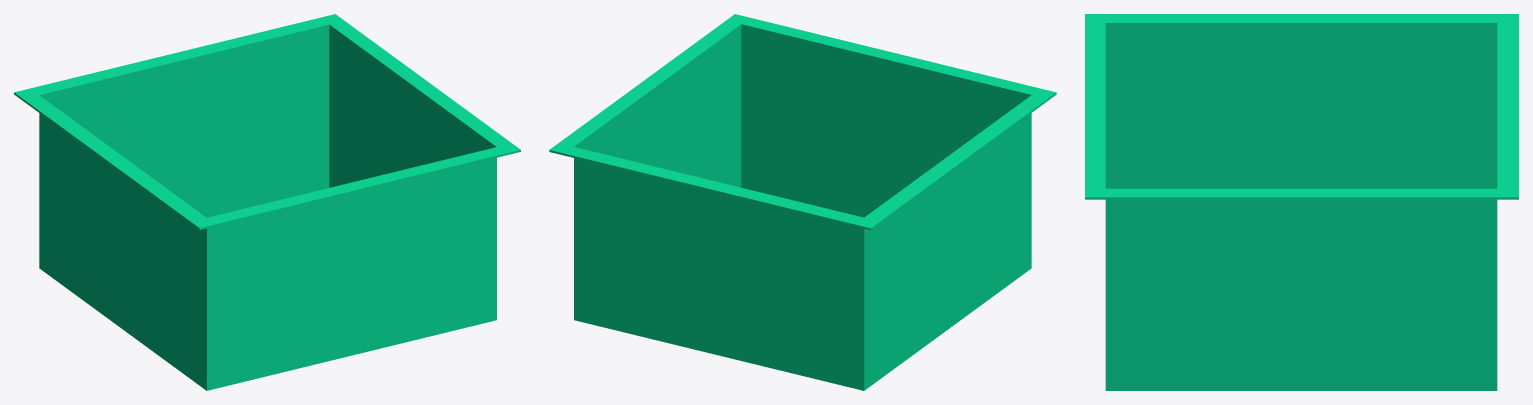
File: phone.gltf
The picture shows the model from 3 angles, left to right: view 1: azimuth 30°, elevation 25°; view 2: azimuth 150°, elevation 25°; view 3: azimuth 270°, elevation 25°; orthographic projection. The views are drawn at different scales.
Parts seen in each view (by area): view 1: Cube.002; view 2: Cube.002; view 3: Cube.002.
Part boxes in pixels (<box>): Cube.002: <box>14,14,520,390</box>; Cube.002: <box>549,14,1056,390</box>; Cube.002: <box>1085,14,1518,390</box>.
Bounding box in the file's own units: 26.08 × 13.43 × 26.08.
